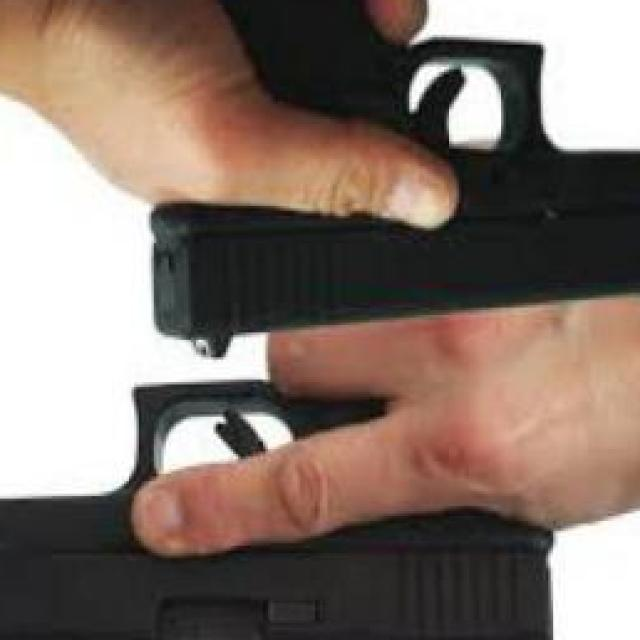pistol: (149, 0, 640, 365), (1, 380, 571, 640)
